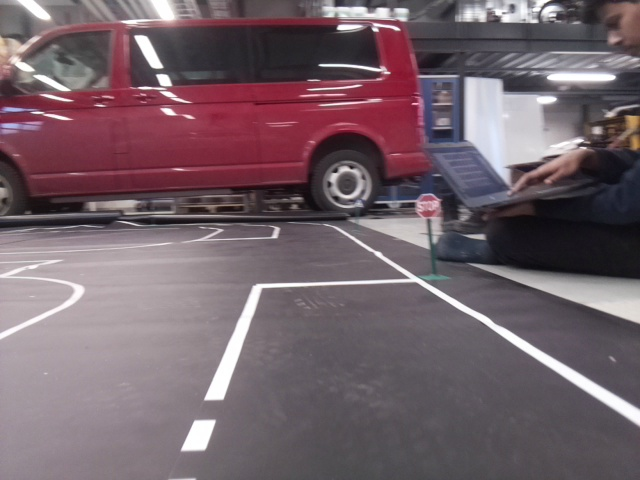Stop: (415, 194, 441, 217)
